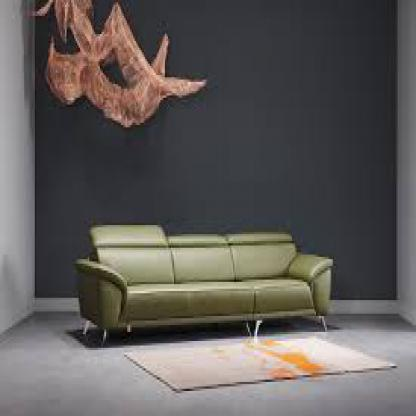sofa: (73, 218, 345, 350)
